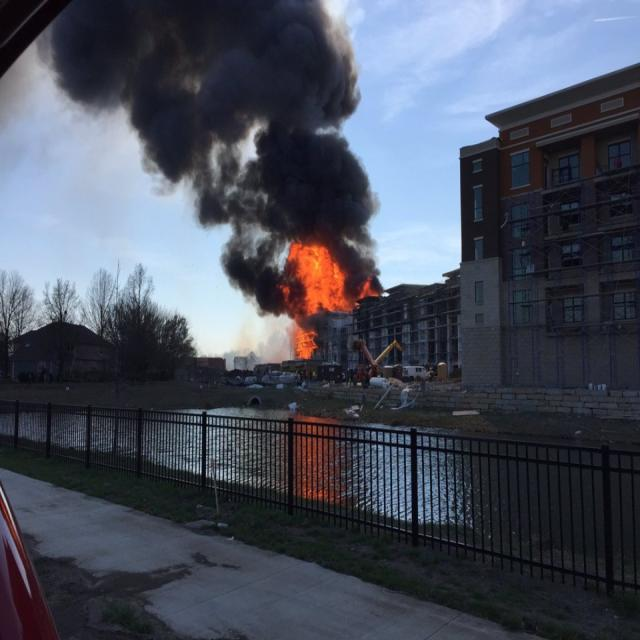Fire: (300, 257, 340, 312)
Smoke: (65, 3, 342, 112), (166, 120, 352, 214), (233, 226, 292, 304)
